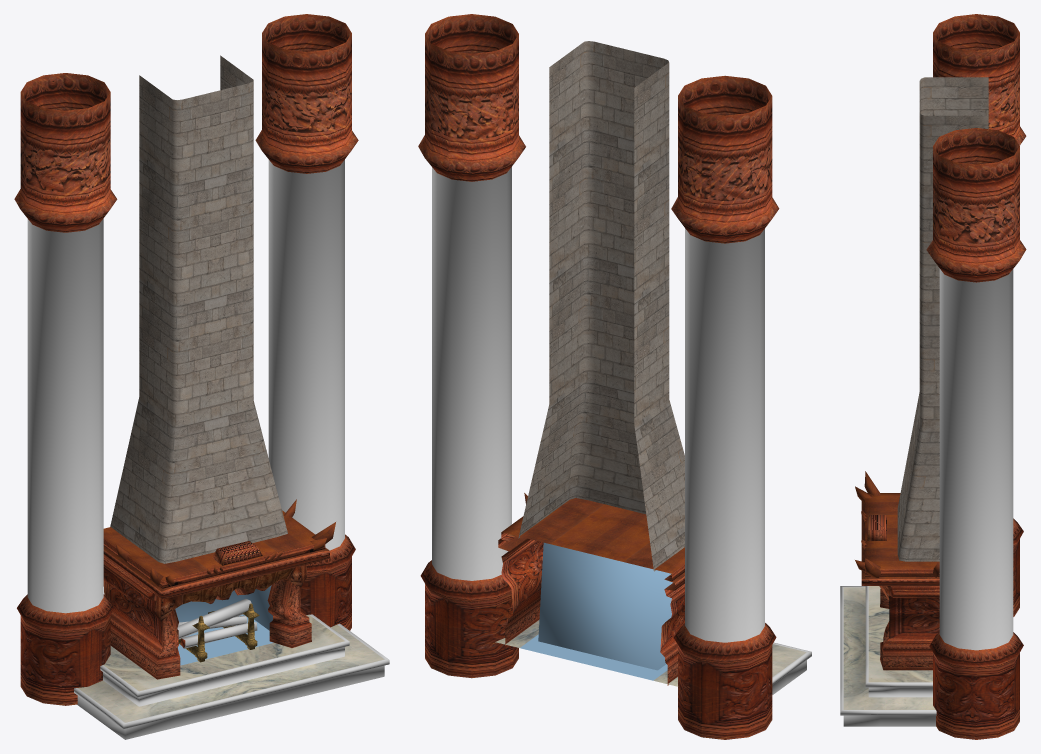
File: Fireplacefromhell.fbx
The picture shows the model from 3 angles, left to right: view 1: azimuth 30°, elevation 25°; view 2: azimuth 150°, elevation 25°; view 3: azimuth 270°, elevation 25°; orthographic projection. The views are drawn at different scales.
Visible parts, largest first — view 1: Fireplace_fromHell_LOD0.003; view 2: Fireplace_fromHell_LOD0.003; view 3: Fireplace_fromHell_LOD0.003.
Part boxes in pixels (x1,y1,x2,y2): Fireplace_fromHell_LOD0.003: [14, 14, 389, 739]; Fireplace_fromHell_LOD0.003: [418, 14, 811, 739]; Fireplace_fromHell_LOD0.003: [840, 14, 1026, 739].
Size of the model in its own units: 1267 by 2180 by 638.
